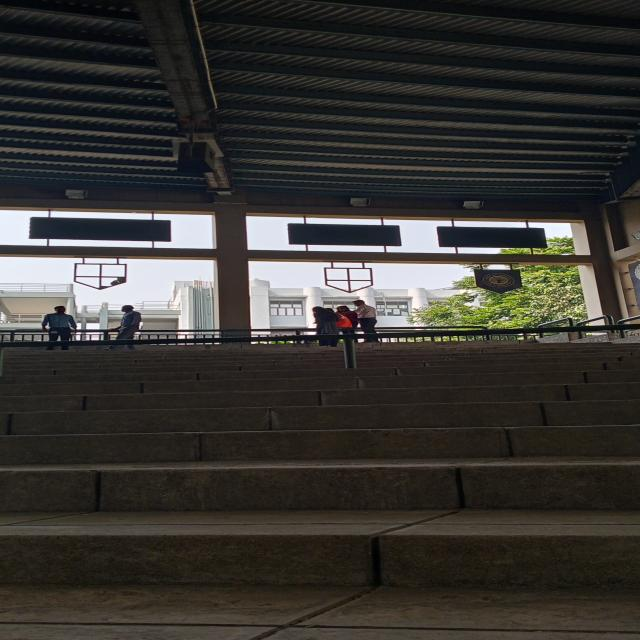unsafe: (43, 304, 84, 354), (111, 304, 144, 350), (355, 300, 382, 344), (312, 306, 338, 348)
